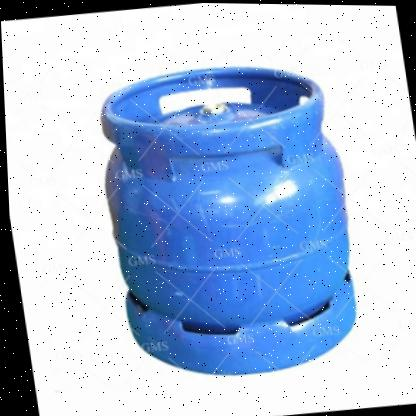gas-tank: (61, 36, 394, 399)
